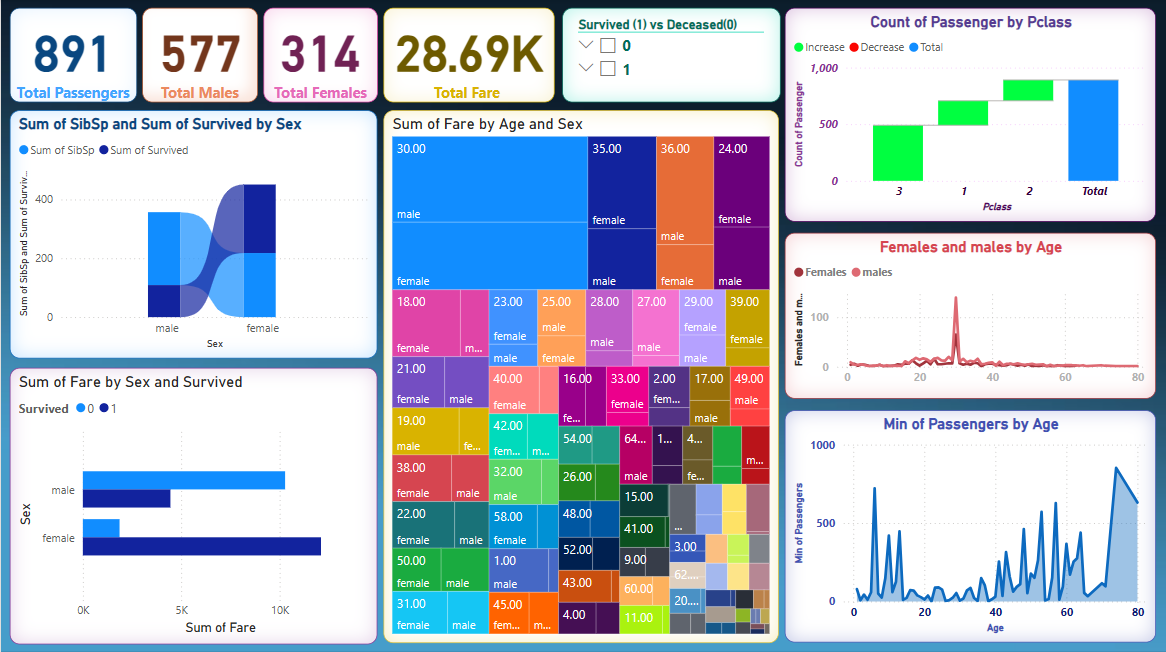

Layout of this report page (visuals, bound fields, positions):
{"tool":"powerbi","page":{"name":"Page 1","canvas":[1280,720],"ordinal":0},"visuals":[{"type":"card","fields":{"Values":["CountNonNull(Titanic-Dataset.PassengerId)"]},"box":[10,10,139.8,104.2],"z":0},{"type":"card","fields":{"Values":["CountNonNull(Titanic-Dataset.Sex - Copy)"]},"box":[155.5,10,127,104.2],"z":1000},{"type":"card","fields":{"Values":["CountNonNull(Titanic-Dataset.Sex - Copy.1)"]},"box":[288.2,10,125.6,104.2],"z":2000},{"type":"slicer","fields":{"Values":["Titanic-Dataset.Survived","Titanic-Dataset.PassengerId"]},"box":[616.5,10,239.7,104.2],"z":3000},{"type":"lineChart","fields":{"Category":["Titanic-Dataset.Age"],"Y":["CountNonNull(Titanic-Dataset.Sex - Copy.1)","CountNonNull(Titanic-Dataset.Sex - Copy)"]},"box":[861.9,256.9,408.1,182.7],"z":4000},{"type":"card","fields":{"Values":["Sum(Titanic-Dataset.Fare)"]},"box":[421,10,188.4,104.2],"z":5000},{"type":"areaChart","fields":{"Category":["Titanic-Dataset.Age"],"Y":["Min(Titanic-Dataset.PassengerId)"]},"box":[861.9,452.4,408.1,255.4],"z":6000},{"type":"waterfallChart","fields":{"Y":["CountNonNull(Titanic-Dataset.PassengerId)"],"Category":["Titanic-Dataset.Pclass"]},"box":[861.9,10,408.1,235.5],"z":6001},{"type":"ribbonChart","fields":{"Y":["Sum(Titanic-Dataset.SibSp)","Sum(Titanic-Dataset.Survived)"],"Category":["Titanic-Dataset.Sex"]},"box":[10,122.7,403.8,272.6],"z":6002},{"type":"treemap","fields":{"Details":["Titanic-Dataset.Sex"],"Group":["Titanic-Dataset.Age"],"Values":["Sum(Titanic-Dataset.Fare)"]},"box":[420.5,122.6,434.7,585.8],"z":6003},{"type":"clusteredBarChart","fields":{"Y":["Sum(Titanic-Dataset.Fare)"],"Category":["Titanic-Dataset.Sex"],"Series":["Titanic-Dataset.Survived"]},"box":[10,405.3,403.8,303.9],"z":6004}]}

Visuals, with their boxes in screenshot pixels (x1, y1, x2, y2), scaled from the page's 1280x720 canvas onto the 1166x652 screenshot:
card - CountNonNull(Titanic-Dataset.PassengerId): bbox(9, 9, 136, 103)
card - CountNonNull(Titanic-Dataset.Sex - Copy): bbox(142, 9, 257, 103)
card - CountNonNull(Titanic-Dataset.Sex - Copy.1): bbox(263, 9, 377, 103)
slicer - Titanic-Dataset.Survived x Titanic-Dataset.PassengerId: bbox(562, 9, 780, 103)
lineChart - Titanic-Dataset.Age x CountNonNull(Titanic-Dataset.Sex - Copy.1): bbox(785, 233, 1157, 398)
card - Sum(Titanic-Dataset.Fare): bbox(384, 9, 555, 103)
areaChart - Titanic-Dataset.Age x Min(Titanic-Dataset.PassengerId): bbox(785, 410, 1157, 641)
waterfallChart - CountNonNull(Titanic-Dataset.PassengerId) x Titanic-Dataset.Pclass: bbox(785, 9, 1157, 222)
ribbonChart - Sum(Titanic-Dataset.SibSp) x Sum(Titanic-Dataset.Survived): bbox(9, 111, 377, 358)
treemap - Titanic-Dataset.Sex x Titanic-Dataset.Age: bbox(383, 111, 779, 641)
clusteredBarChart - Sum(Titanic-Dataset.Fare) x Titanic-Dataset.Sex: bbox(9, 367, 377, 642)
